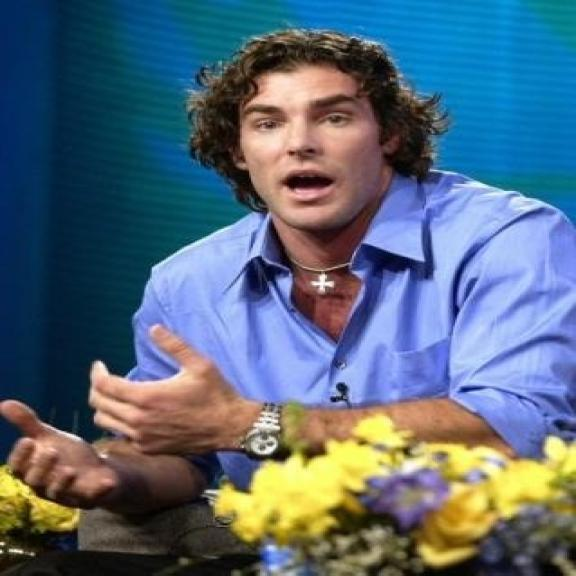face: (231, 57, 412, 232)
